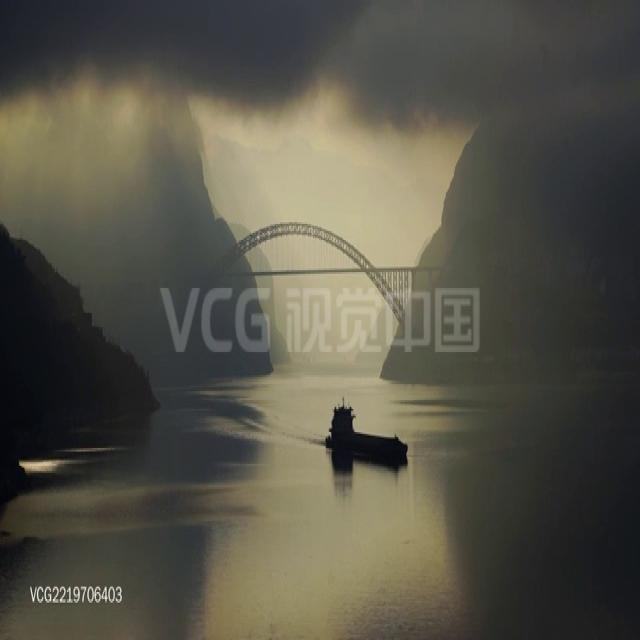cargoship: (323, 394, 408, 471)
